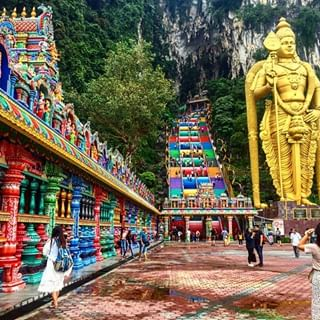Hindu Temple: (234, 16, 320, 194)
